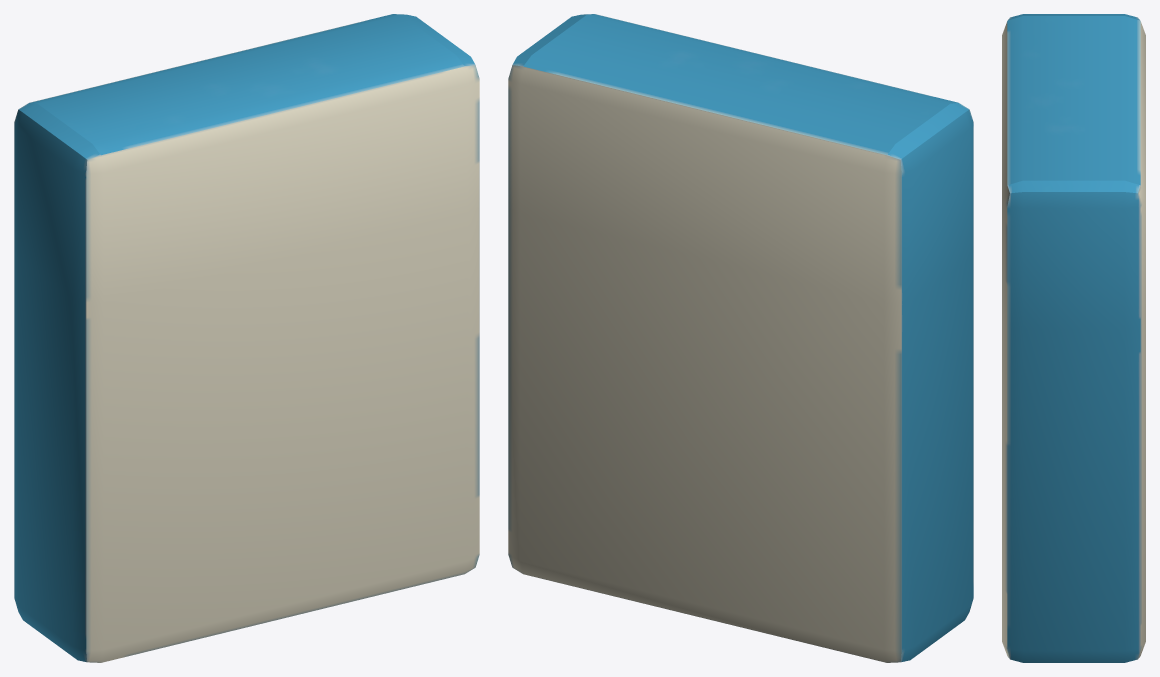
Rendered from Shelf Item (9).fbx.
3 views of the same model, side by side, from view 1: azimuth 30°, elevation 25°; view 2: azimuth 150°, elevation 25°; view 3: azimuth 270°, elevation 25° (orthographic). The views are drawn at different scales.
Visible parts, largest first — view 1: Object127; view 2: Object127; view 3: Object127.
Boxes of the visible parts, <box> form: Object127: <box>14,14,479,662</box>; Object127: <box>508,14,973,662</box>; Object127: <box>1002,14,1145,662</box>.
Bounding box in the file's own units: 8.07 × 9.9 × 2.68.
